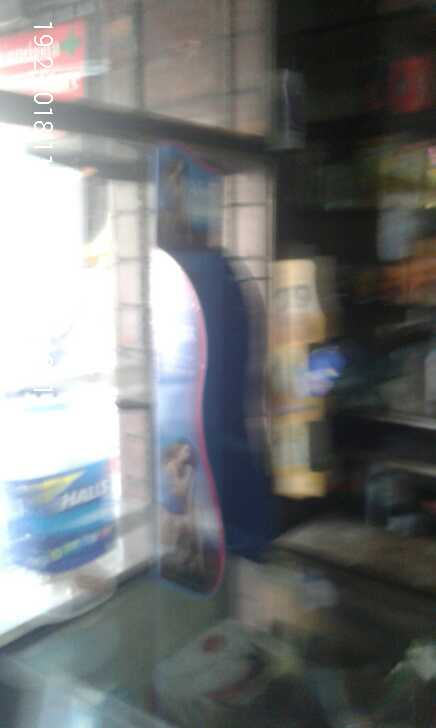reject: (164, 249, 287, 582)
